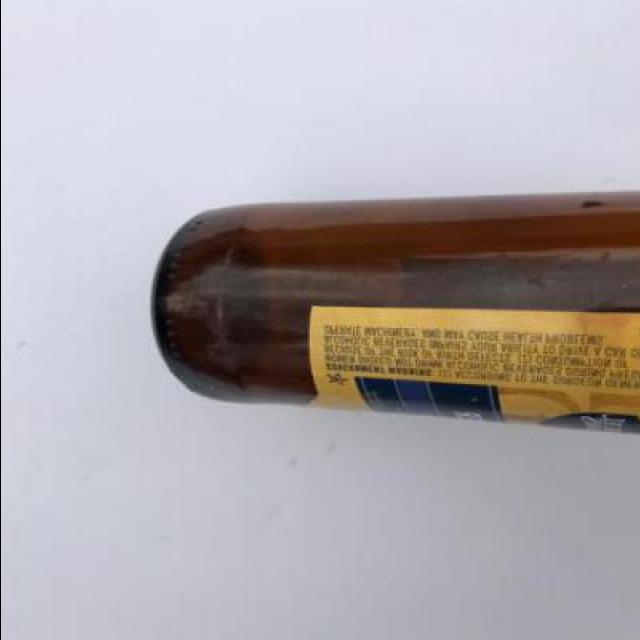kaca: (145, 189, 640, 432)
